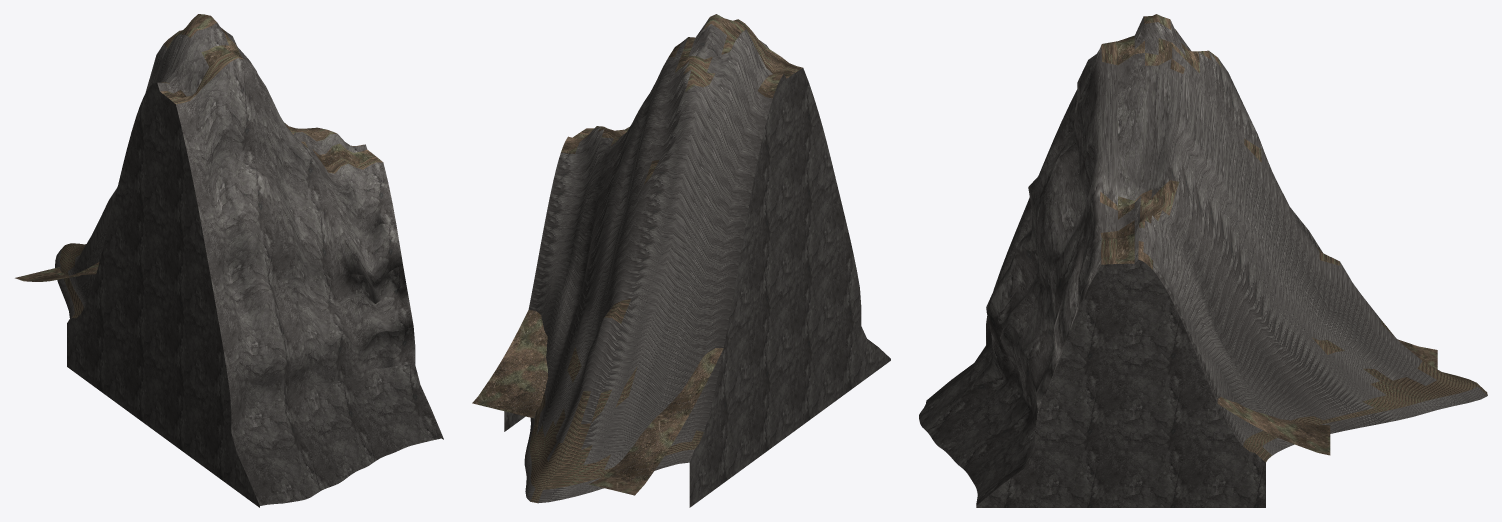
Rendered from seacliff_step_h8h5_v5_autumn.glb.
3 renders of one model, left to right at view 1: azimuth 30°, elevation 25°; view 2: azimuth 150°, elevation 25°; view 3: azimuth 270°, elevation 25°, orthographic. The views are drawn at different scales.
Visible parts, largest first — view 1: seacliff_step_h8h5; view 2: seacliff_step_h8h5; view 3: seacliff_step_h8h5.
Boxes of the visible parts, x1,y1,x2,y2 form: seacliff_step_h8h5: (15, 14, 443, 507); seacliff_step_h8h5: (472, 14, 890, 507); seacliff_step_h8h5: (919, 14, 1487, 507).
Size of the model in its own units: 6 by 11.02 by 13.67.
2 materials, 2 textured.
